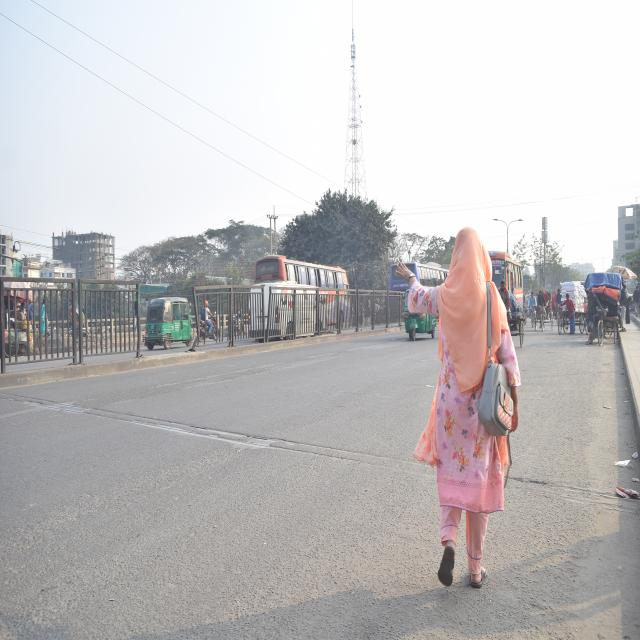bus: (482, 247, 526, 315)
